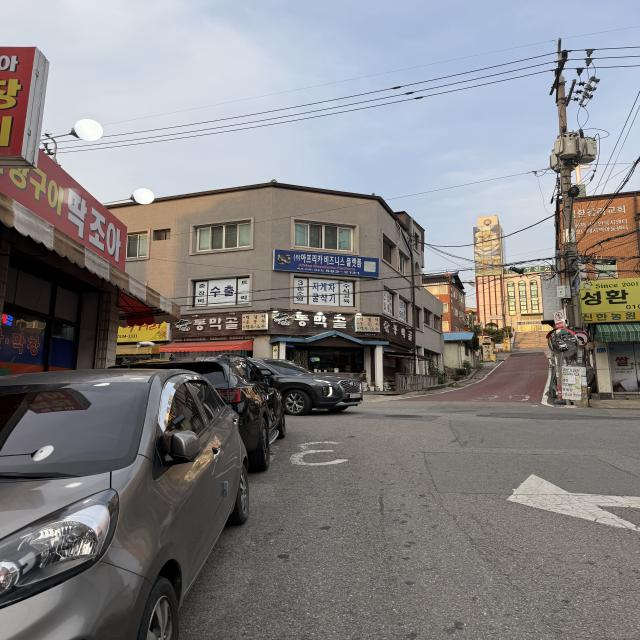car: (1, 365, 252, 631), (89, 358, 296, 474), (155, 345, 376, 424)
